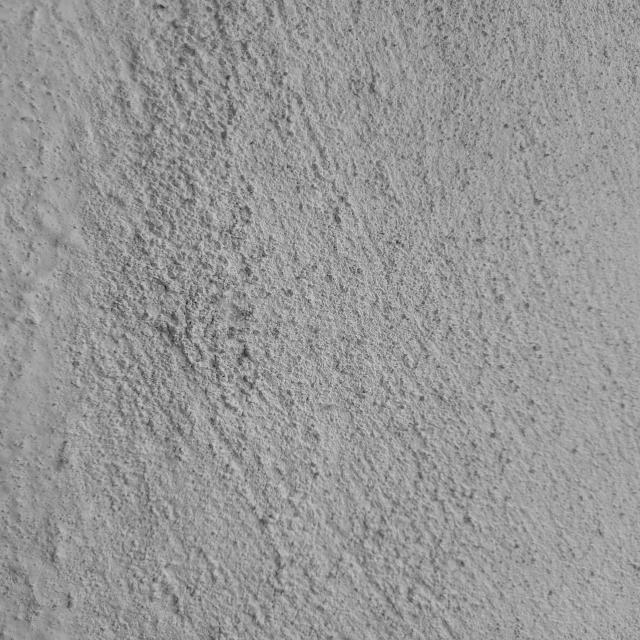rough and patchy surface: (12, 8, 618, 626)
